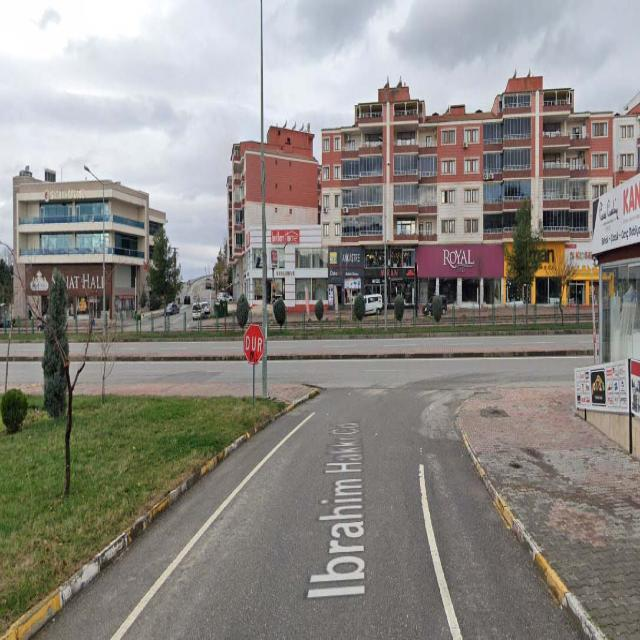dur: (244, 324, 263, 360)
